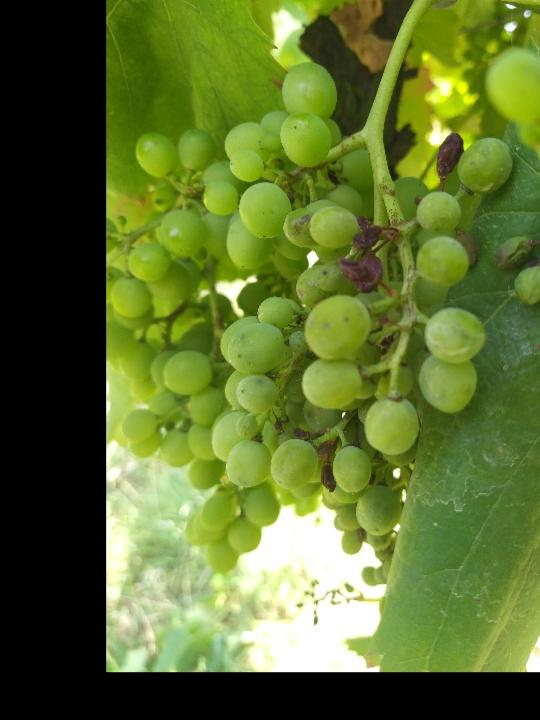grape: (222, 57, 522, 537)
